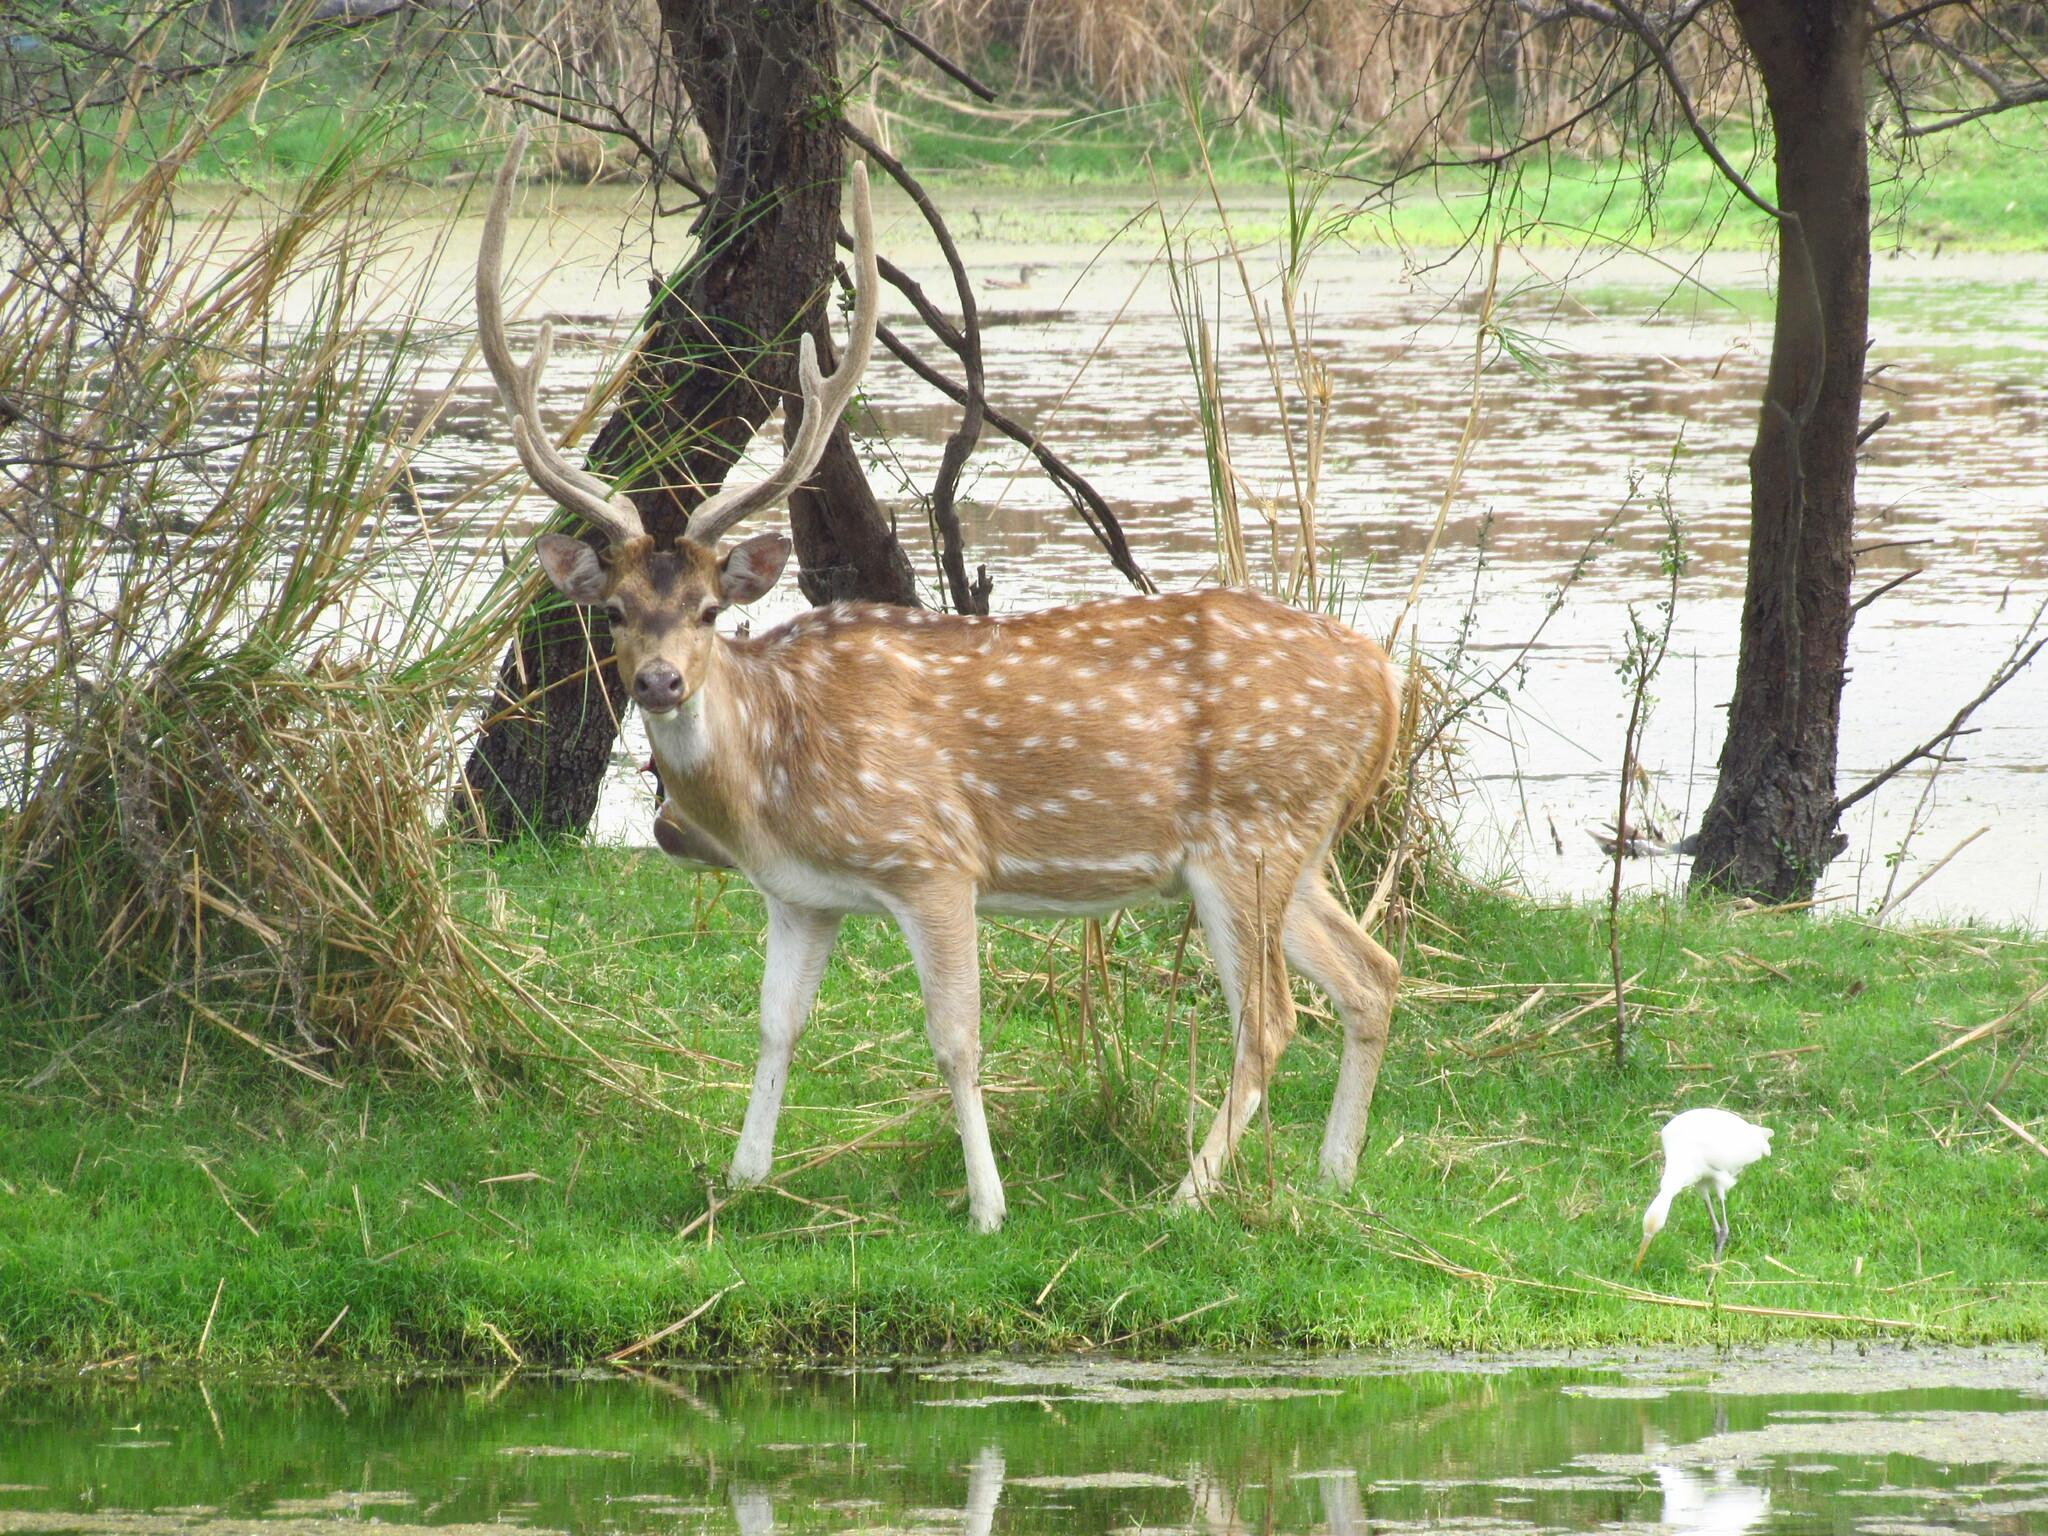Deer: (476, 132, 1401, 1233)
